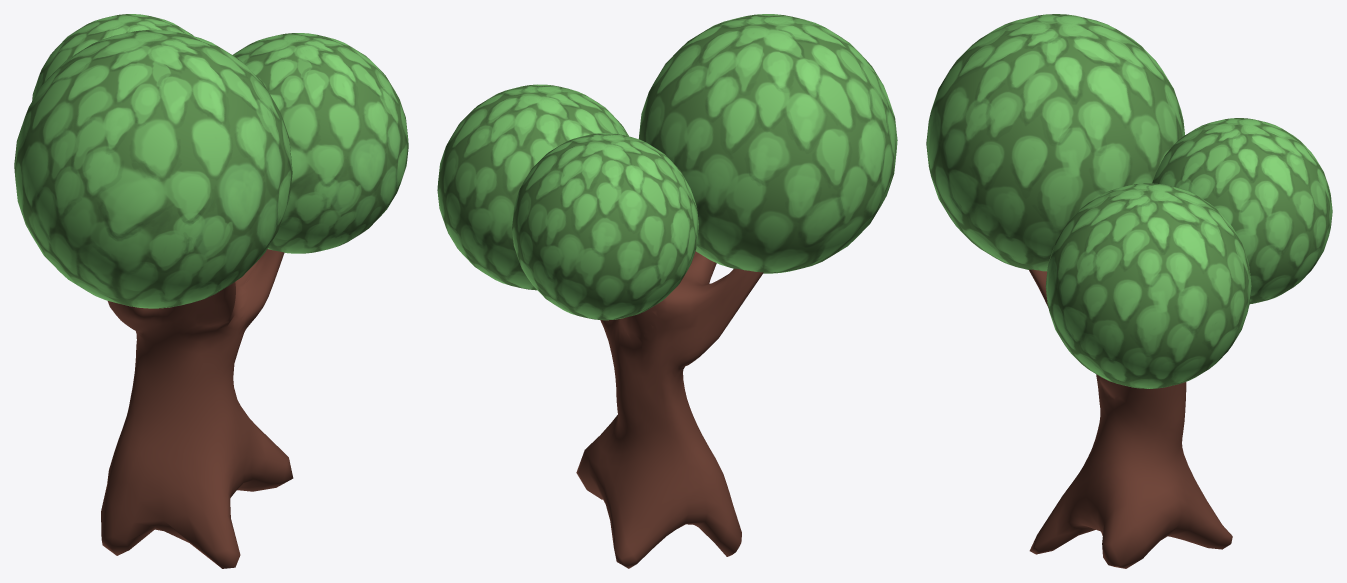
The model's file is tree.glb.
The picture shows the model from 3 angles, left to right: view 1: azimuth 30°, elevation 25°; view 2: azimuth 150°, elevation 25°; view 3: azimuth 270°, elevation 25°; orthographic projection. The views are drawn at different scales.
Parts seen in each view (by area): view 1: leaf.001, trunk, leaf, leaf.002; view 2: leaf.001, trunk, leaf.002, leaf; view 3: leaf.001, leaf, trunk, leaf.002.
Boxes of the visible parts, x1=… form: leaf.001: x1=14, y1=30, x2=292, y2=308; trunk: x1=101, y1=249, x2=293, y2=568; leaf: x1=233, y1=33, x2=408, y2=253; leaf.002: x1=32, y1=14, x2=193, y2=100; leaf.001: x1=638, y1=14, x2=897, y2=273; trunk: x1=576, y1=251, x2=763, y2=568; leaf.002: x1=512, y1=133, x2=698, y2=320; leaf: x1=437, y1=84, x2=628, y2=290; leaf.001: x1=926, y1=14, x2=1184, y2=271; leaf: x1=1045, y1=183, x2=1251, y2=388; trunk: x1=1029, y1=269, x2=1232, y2=568; leaf.002: x1=1152, y1=118, x2=1332, y2=303.
Size of the model in its own units: 5.5 by 6.91 by 5.06.
2 materials, 2 textured.
